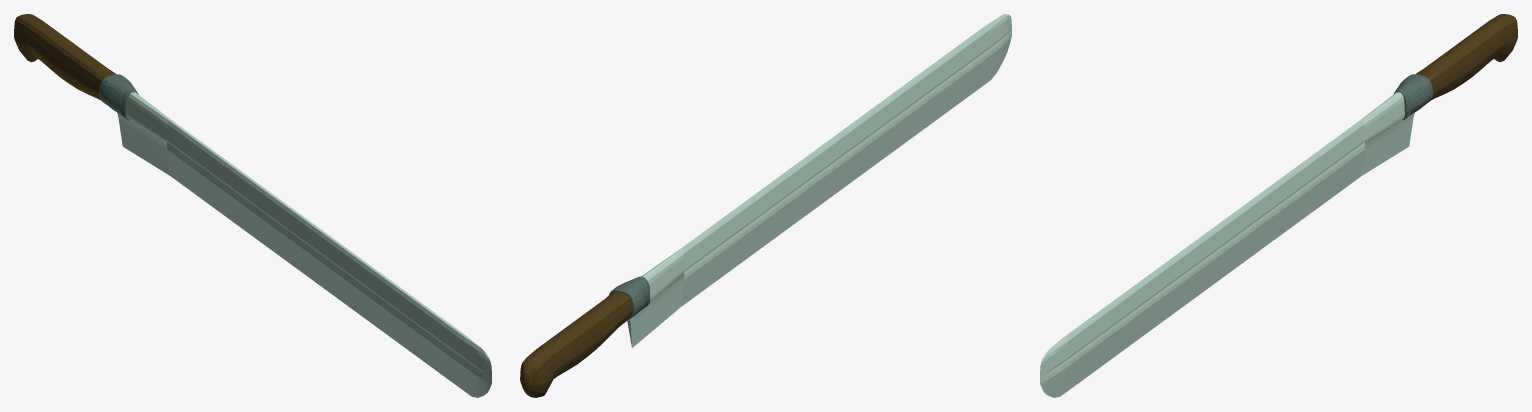
Rendered from knife2.fbx.
The picture shows the model from 3 angles, left to right: view 1: azimuth 30°, elevation 25°; view 2: azimuth 150°, elevation 25°; view 3: azimuth 330°, elevation 25°; orthographic projection. The views are drawn at different scales.
Parts seen in each view (by area): view 1: Cube; view 2: Cube; view 3: Cube.
Part boxes in pixels (x1,y1,x2,y2): Cube: [14, 14, 491, 397]; Cube: [520, 14, 1011, 397]; Cube: [1040, 14, 1517, 397].
Bounding box in the file's own units: 57.92 × 126 × 1689.
